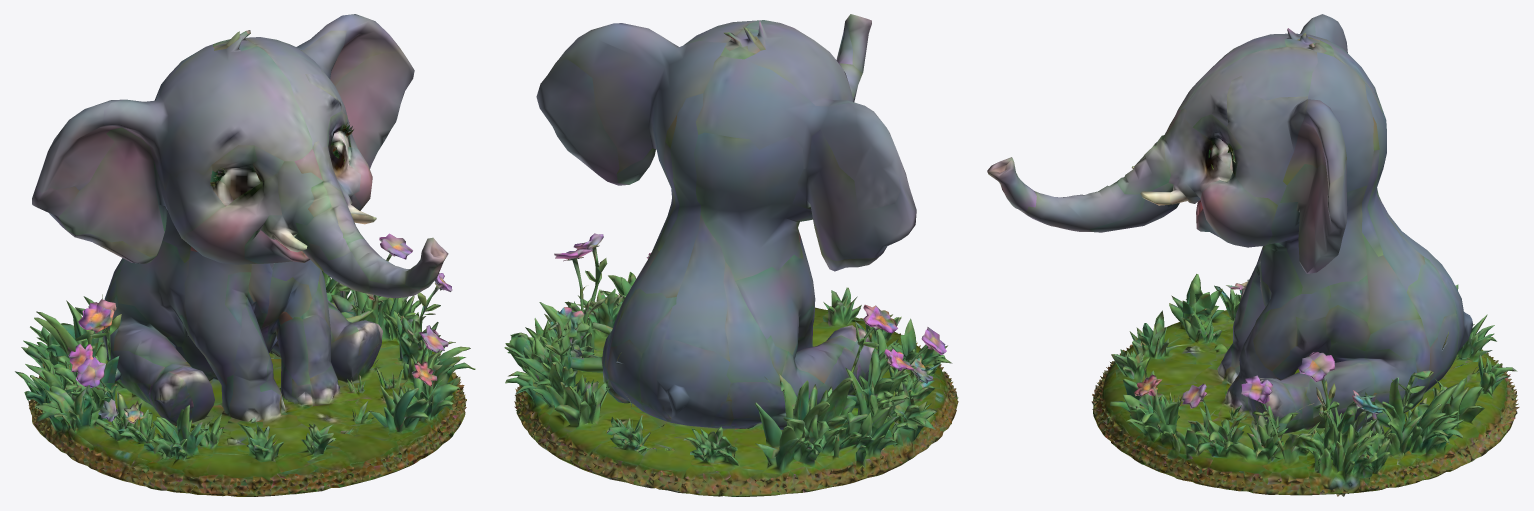
3 renders of one model, left to right at view 1: azimuth 30°, elevation 25°; view 2: azimuth 150°, elevation 25°; view 3: azimuth 270°, elevation 25°, orthographic. The views are drawn at different scales.
Size of the model in its own units: 1.63 by 1.49 by 1.9.
1 material, 1 textured.
